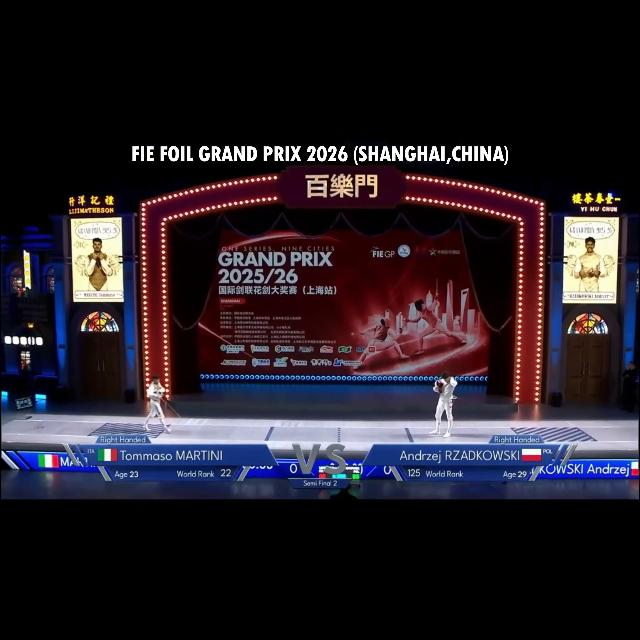blade: (158, 394, 184, 424)
